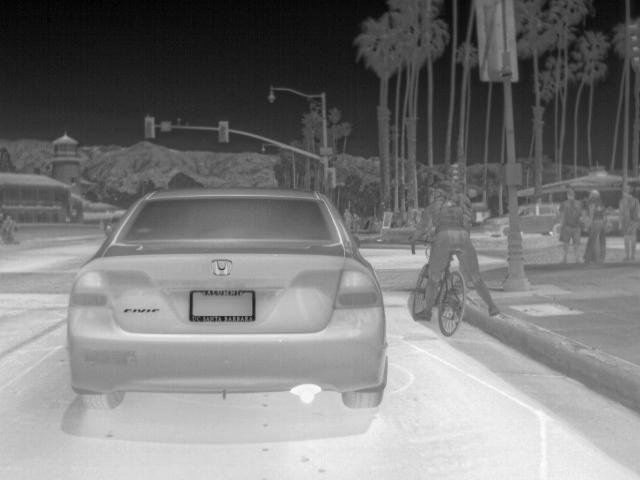car: (66, 186, 390, 412), (517, 202, 560, 236), (485, 211, 508, 238)
person: (418, 198, 499, 318), (553, 190, 589, 268), (609, 183, 639, 263), (581, 188, 607, 266), (0, 214, 16, 233), (341, 207, 353, 232)
